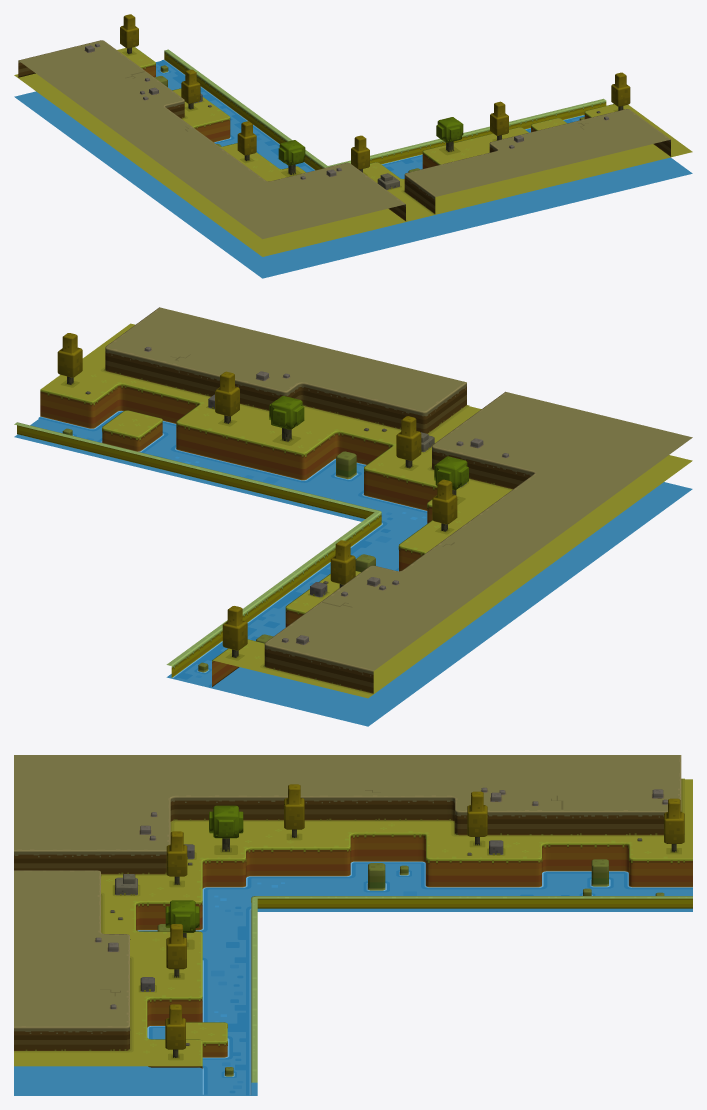
Rendered from C_water2_out_RU.fbx.
3 renders of one model, top to bottom at view 1: azimuth 30°, elevation 25°; view 2: azimuth 150°, elevation 25°; view 3: azimuth 270°, elevation 25°, orthographic. The views are drawn at different scales.
Parts seen in each view (by area): view 1: C_water2_out_RU; view 2: C_water2_out_RU; view 3: C_water2_out_RU.
Part boxes in pixels (x1=…): C_water2_out_RU: x1=14, y1=14, x2=692, y2=278; C_water2_out_RU: x1=14, y1=307, x2=692, y2=726; C_water2_out_RU: x1=14, y1=755, x2=692, y2=1095.
Bounding box in the file's own units: 117 × 15.34 × 117.
